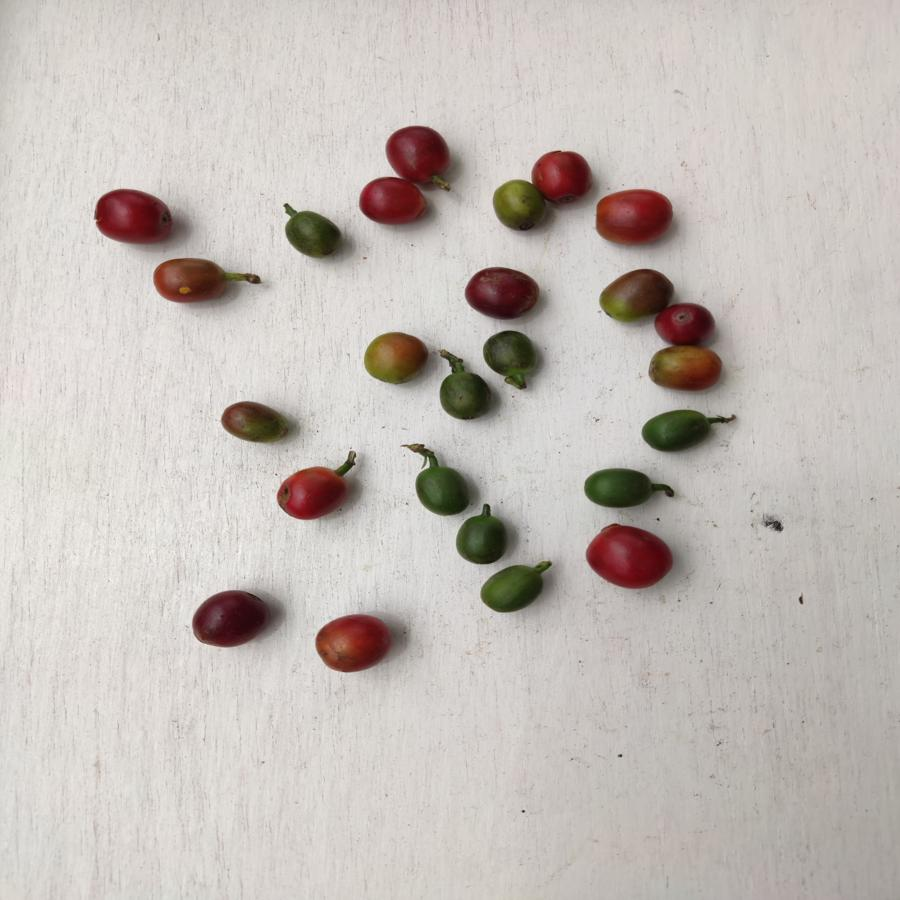Inmaduro: (480, 563, 543, 613), (413, 465, 472, 517), (584, 465, 654, 508), (639, 411, 710, 453), (282, 212, 343, 260), (480, 329, 537, 380), (439, 368, 492, 421), (453, 513, 508, 564)
Maduro: (582, 520, 672, 589), (311, 611, 397, 674), (595, 190, 679, 247), (93, 188, 172, 248), (276, 464, 349, 522), (383, 128, 453, 183), (360, 175, 429, 228), (531, 149, 593, 205), (654, 302, 717, 347)
Pinton: (151, 256, 228, 307), (645, 345, 725, 393), (598, 269, 669, 322), (358, 331, 428, 383), (218, 401, 292, 448), (490, 178, 543, 230)
Sobremaduro: (184, 590, 273, 650), (464, 265, 539, 319)
